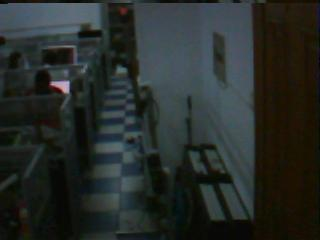oball: (120, 6, 128, 15)
